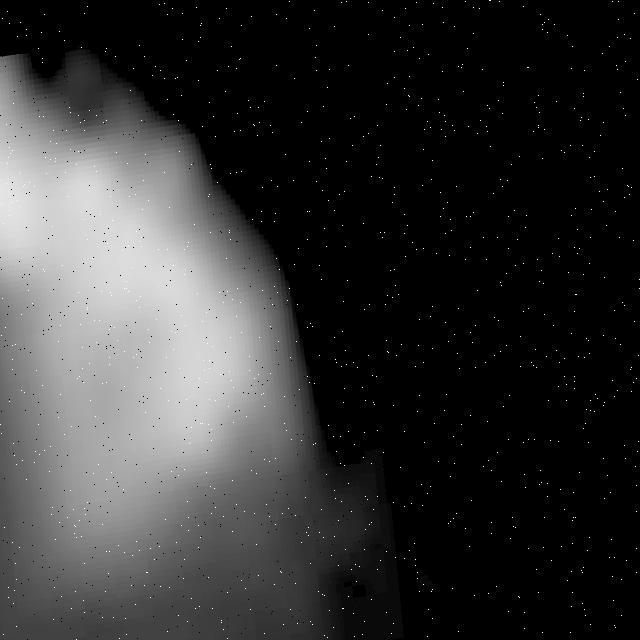person: (1, 5, 385, 640)
